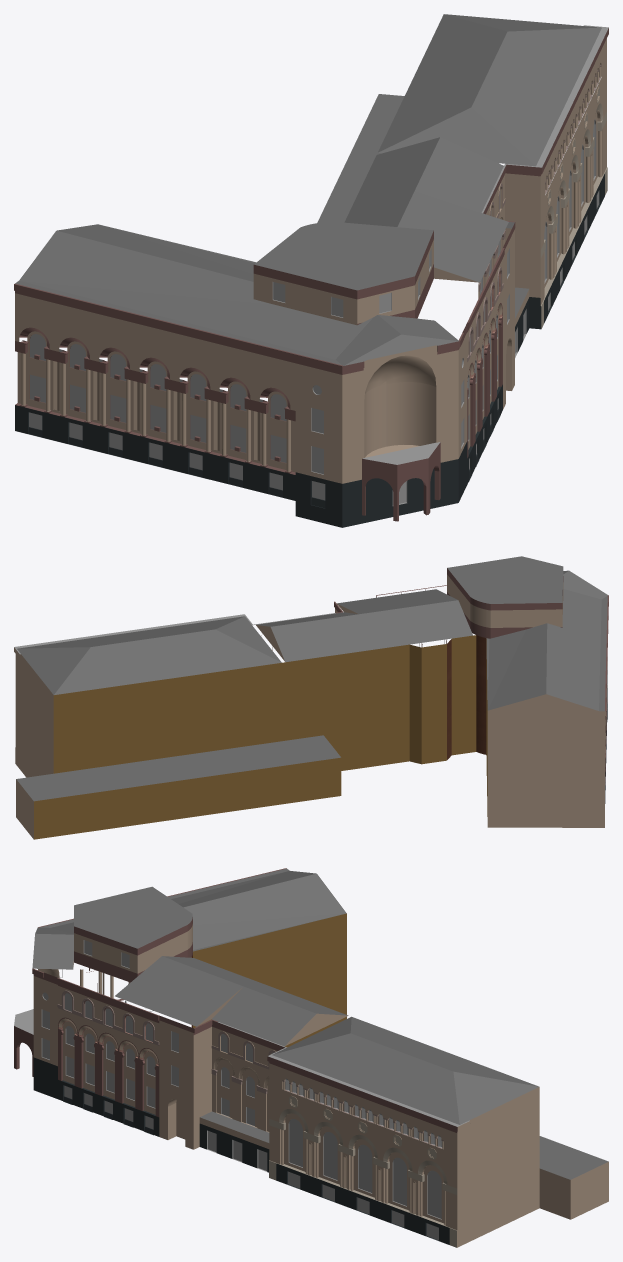
The model's file is Building01.glb.
3 renders of one model, top to bottom at view 1: azimuth 30°, elevation 25°; view 2: azimuth 150°, elevation 25°; view 3: azimuth 270°, elevation 25°, orthographic. The views are drawn at different scales.
Parts seen in each view (by area): view 1: Mesh161; view 2: Mesh161; view 3: Mesh161.
Part boxes in pixels (left/top/right/bottom): Mesh161: left=14, top=14, right=608, bottom=527; Mesh161: left=14, top=556, right=608, bottom=839; Mesh161: left=14, top=868, right=608, bottom=1247.
Bounding box in the file's own units: 34.07 × 9.71 × 33.08.
Materials: 13 (4 with a texture image).
